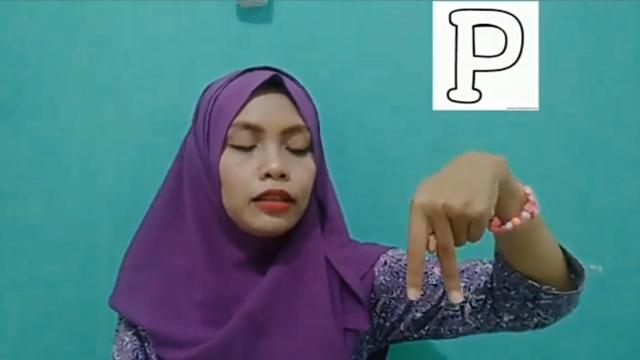P: (402, 147, 503, 305)
